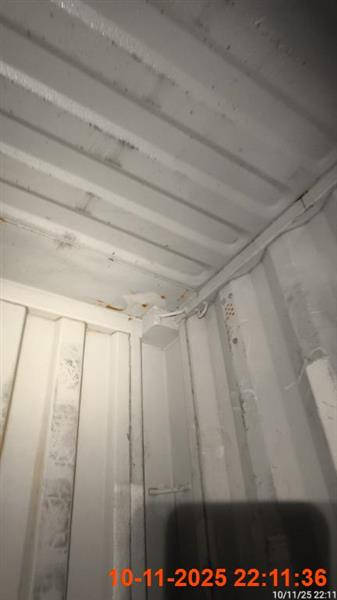hole: (162, 500, 333, 599)
